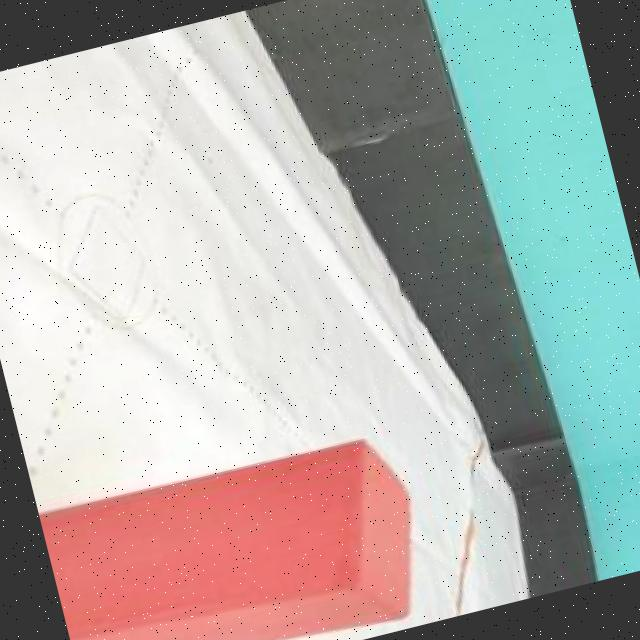redbox: (37, 423, 439, 640)
